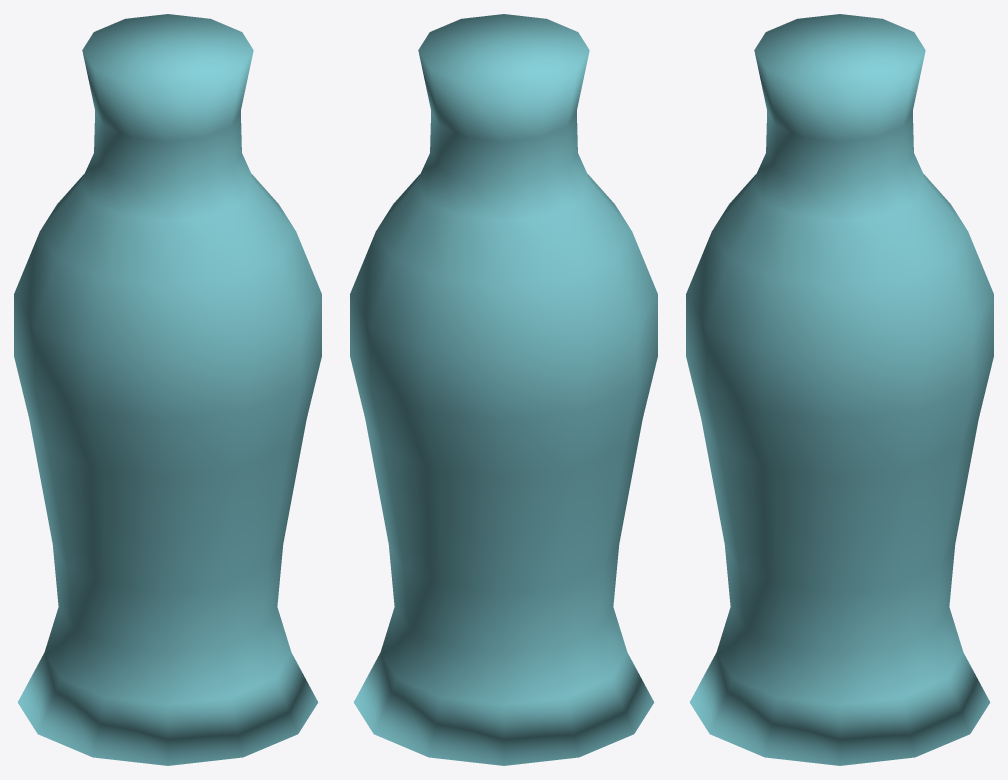
The model's file is bottle.obj.
The picture shows the model from 3 angles, left to right: view 1: azimuth 30°, elevation 25°; view 2: azimuth 150°, elevation 25°; view 3: azimuth 270°, elevation 25°; orthographic projection.
Visible parts, largest first — view 1: pCylinder33; view 2: pCylinder33; view 3: pCylinder33.
Boxes of the visible parts, left/top/right/bottom form: pCylinder33: left=14, top=14, right=321, bottom=765; pCylinder33: left=350, top=14, right=657, bottom=765; pCylinder33: left=686, top=14, right=993, bottom=765.
Size of the model in its own units: 0.4322 by 1.01 by 0.4322.
Materials: 1 (1 with a texture image).
